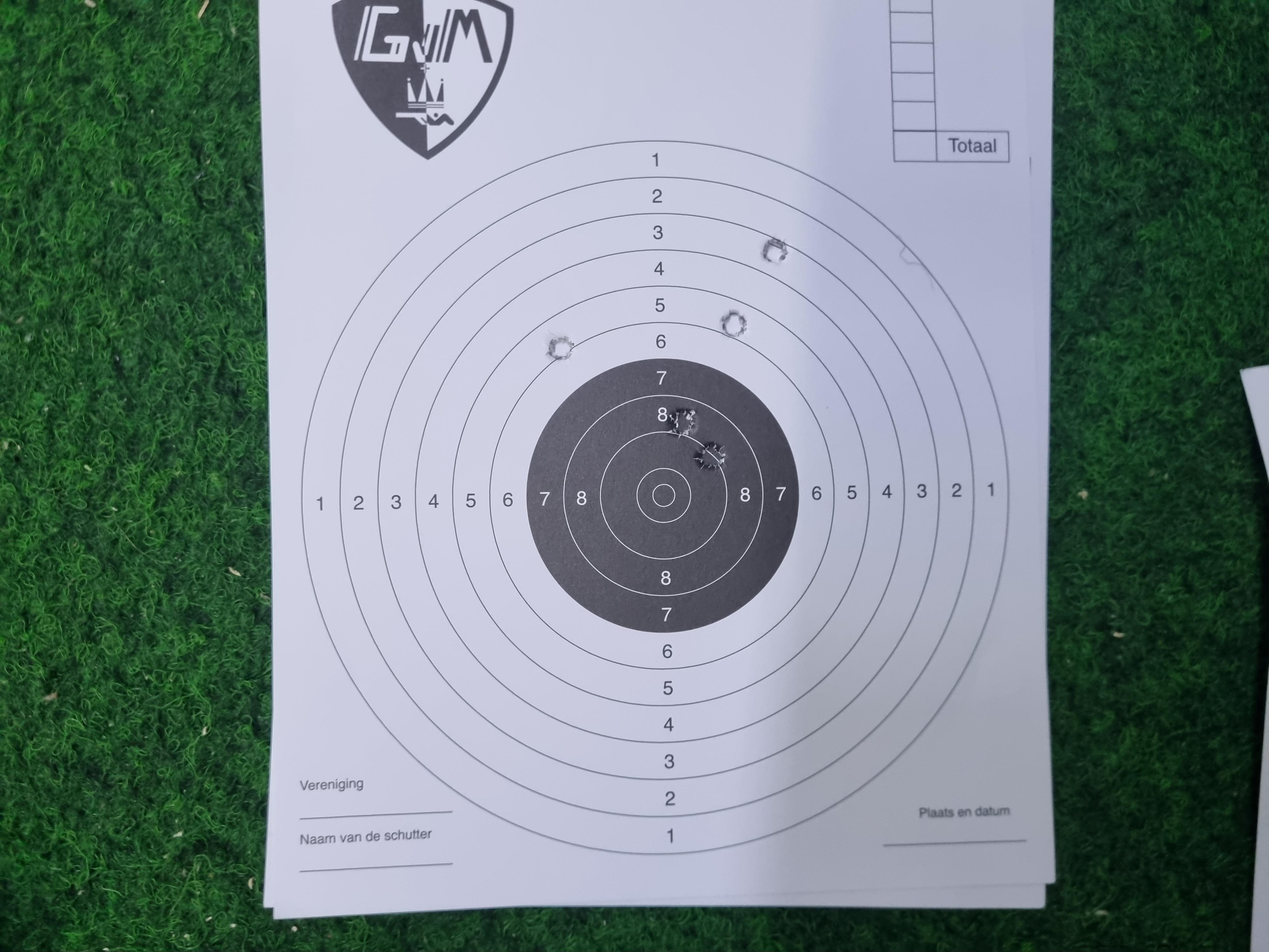hole: (685, 499, 724, 524), (642, 521, 679, 544), (819, 541, 857, 561), (789, 410, 821, 431), (920, 572, 952, 591)
